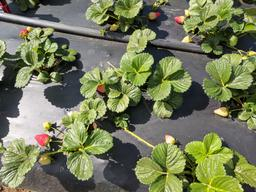green strawberry: (214, 106, 229, 117), (164, 134, 176, 146), (39, 156, 52, 166), (148, 11, 161, 20), (174, 15, 186, 24), (42, 121, 51, 130), (182, 35, 192, 43)
red strawberry: (34, 134, 51, 146)
